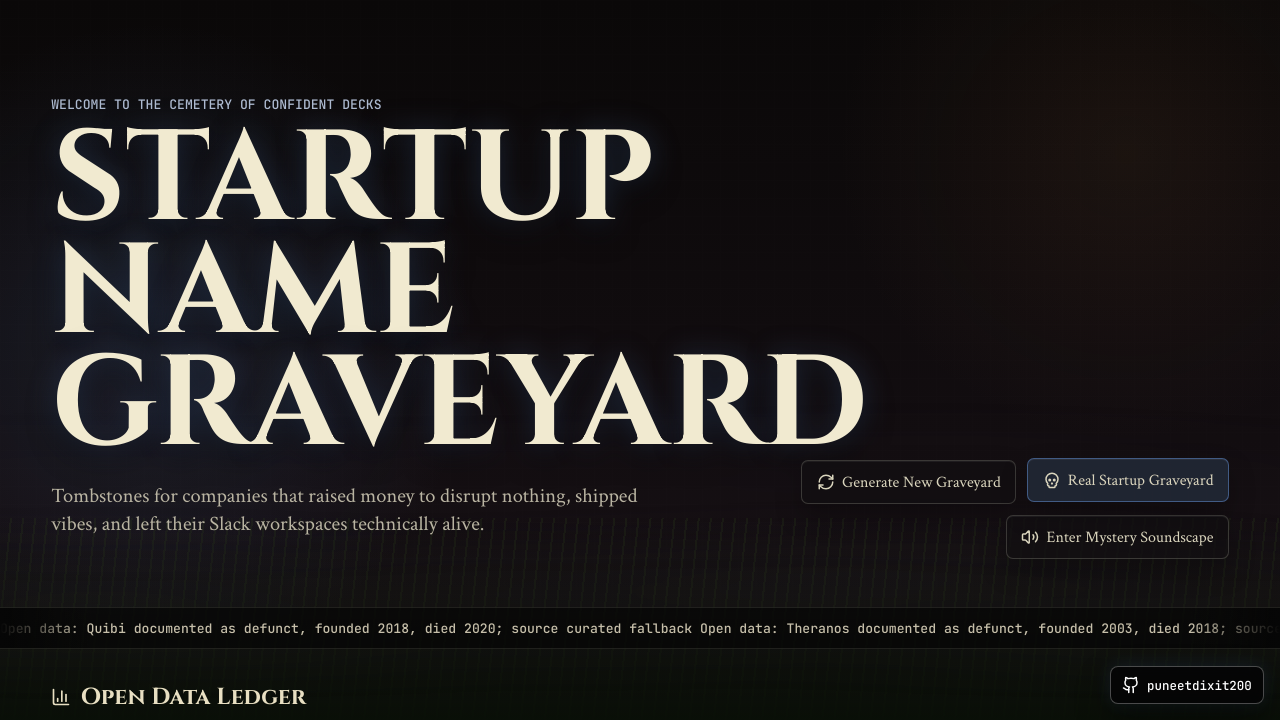
Test: Startup Name Graveyard app › refreshes real startup graves with a skeleton loading skin
The width and height of the screenshot is (1280, 720).
Click the button "Generate New Graveyard".
click(909, 482)  # box [802, 460, 1016, 504]
(page scrolled)
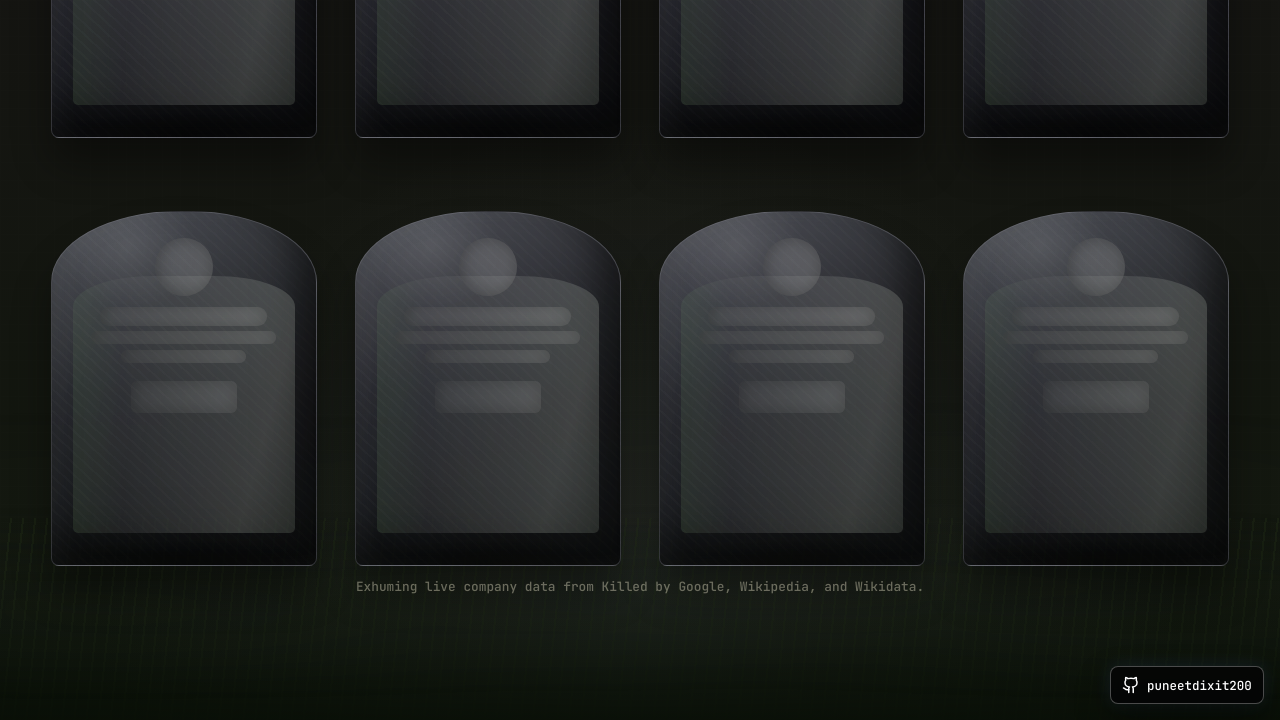
Now the text "Exhuming live company data" is shown, box [356, 578, 924, 595]
